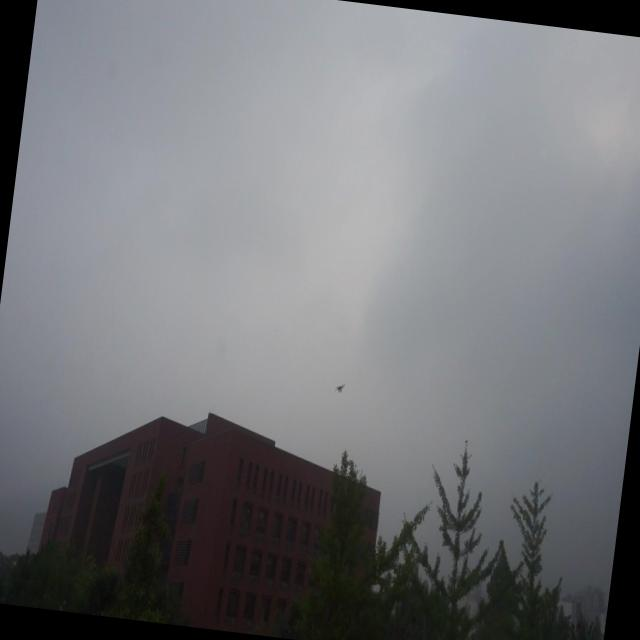drone: (332, 378, 348, 400)
